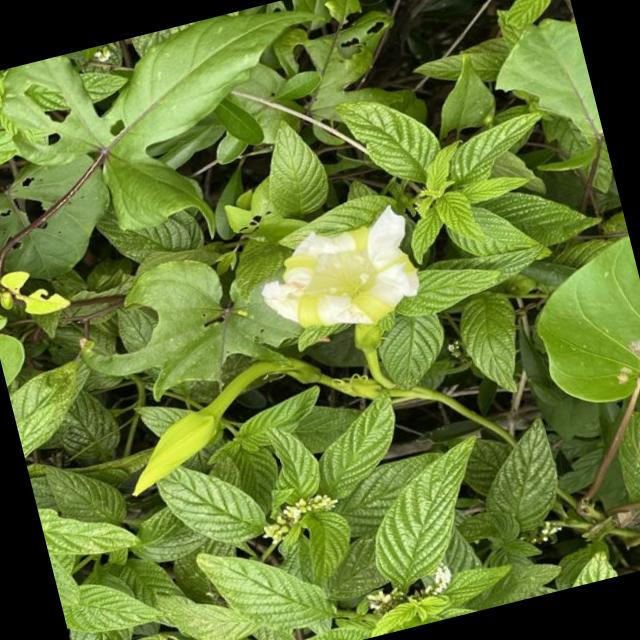ipomoea: (242, 198, 432, 352), (251, 482, 349, 553)
